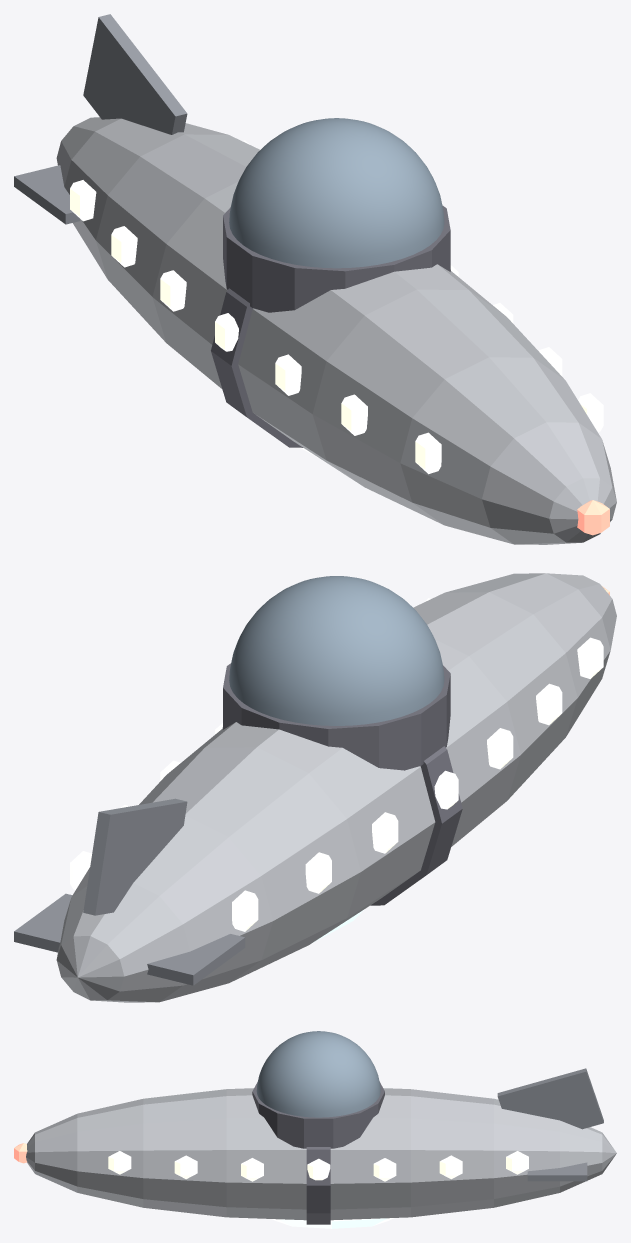
The model's file is cigar.glb.
3 renders of one model, top to bottom at view 1: azimuth 30°, elevation 25°; view 2: azimuth 150°, elevation 25°; view 3: azimuth 270°, elevation 25°, orthographic. The views are drawn at different scales.
Visible parts, largest first — view 1: cigar, dome.004; view 2: cigar, dome.004; view 3: cigar, dome.004.
Boxes of the visible parts, x1,y1,x2,y2 form: cigar: (14, 14, 616, 544); dome.004: (229, 118, 444, 268); cigar: (14, 573, 616, 1002); dome.004: (229, 576, 444, 725); cigar: (14, 1068, 616, 1228); dome.004: (256, 1031, 380, 1117).
Bounding box in the file's own units: 1.87 × 2.51 × 7.28.
